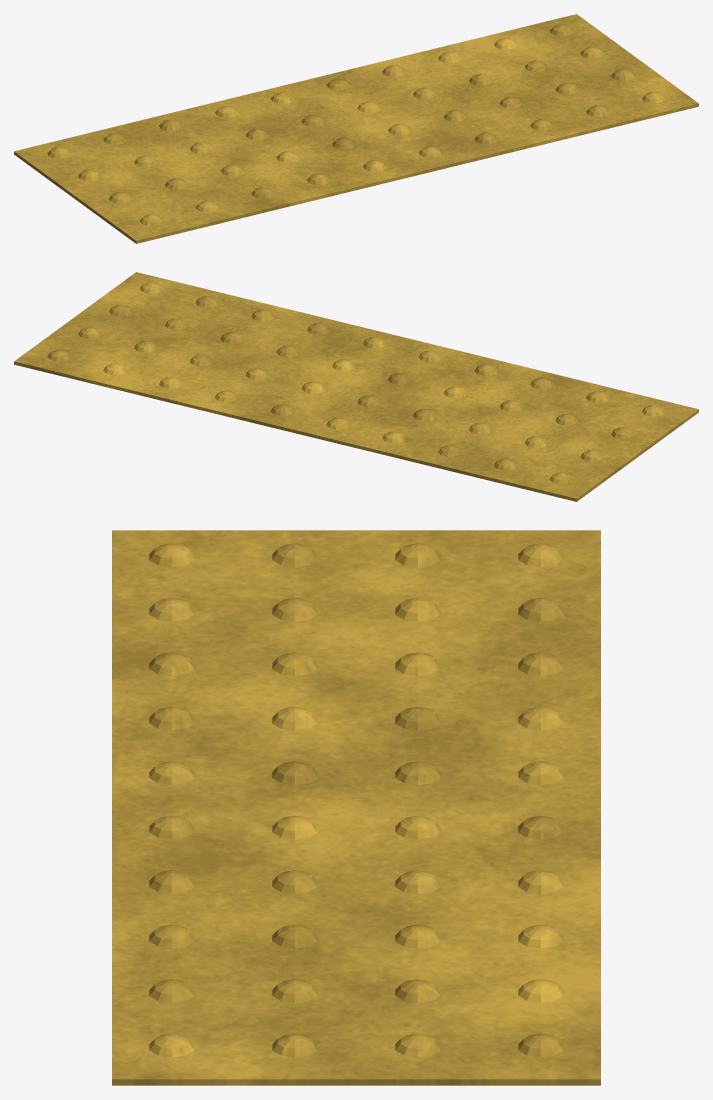
The model's file is PZ_Tactile_Tile_1m.glb.
3 views of the same model, one above another, from view 1: azimuth 30°, elevation 25°; view 2: azimuth 150°, elevation 25°; view 3: azimuth 270°, elevation 25° (orthographic). The views are drawn at different scales.
Parts seen in each view (by area): view 1: PZ_Tactile_Tile_1m__Warning_Tile_1m, PZ_Tactile_Tile_1m__Warning_Domes; view 2: PZ_Tactile_Tile_1m__Warning_Tile_1m, PZ_Tactile_Tile_1m__Warning_Domes; view 3: PZ_Tactile_Tile_1m__Warning_Tile_1m, PZ_Tactile_Tile_1m__Warning_Domes.
Boxes of the visible parts, x1,y1,x2,y2 form: PZ_Tactile_Tile_1m__Warning_Tile_1m: (14, 14, 698, 243); PZ_Tactile_Tile_1m__Warning_Domes: (47, 24, 665, 225); PZ_Tactile_Tile_1m__Warning_Tile_1m: (14, 272, 698, 501); PZ_Tactile_Tile_1m__Warning_Domes: (47, 282, 665, 483); PZ_Tactile_Tile_1m__Warning_Tile_1m: (112, 530, 600, 1085); PZ_Tactile_Tile_1m__Warning_Domes: (149, 543, 563, 1057).
Bounding box in the file's own units: 0.93 × 0.016 × 0.35.
1 material, 1 textured.
